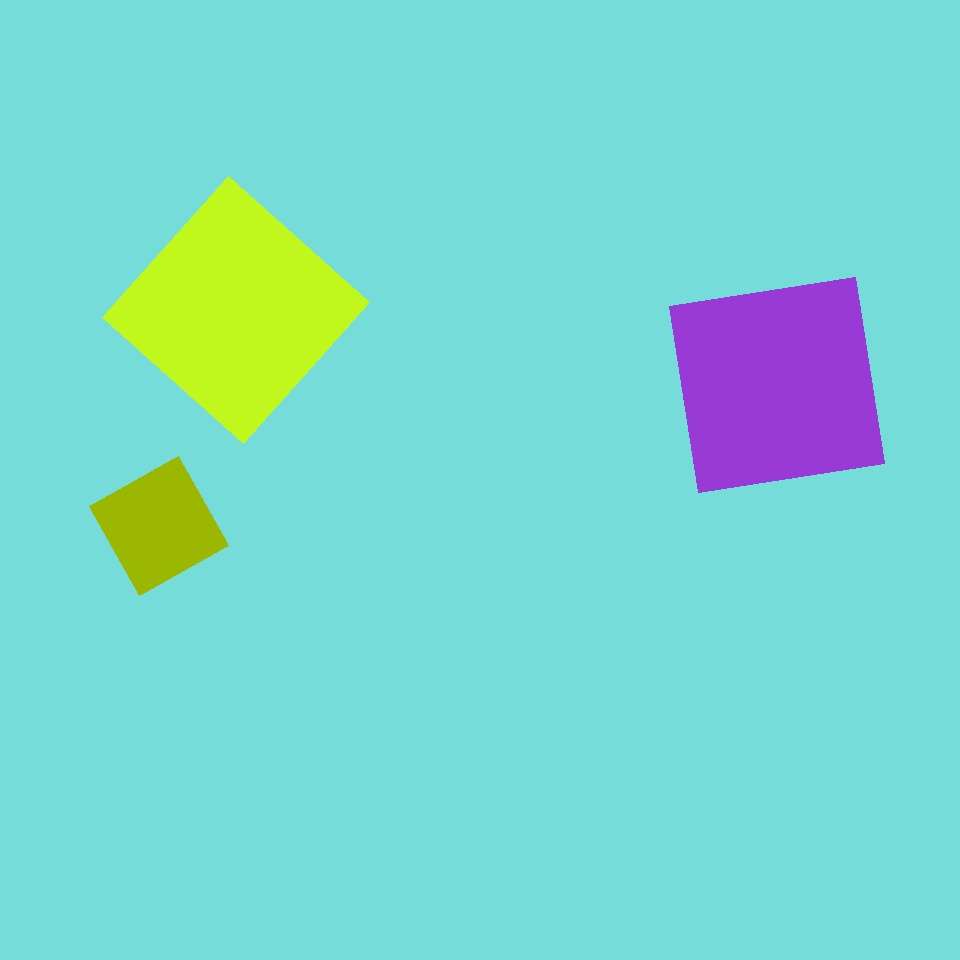circle: (632, 20, 862, 276)
square: (396, 464, 767, 834), (99, 544, 389, 834), (102, 176, 370, 444), (670, 278, 884, 493), (552, 283, 704, 435), (89, 457, 228, 596)
triangle: (333, 462, 642, 771)
